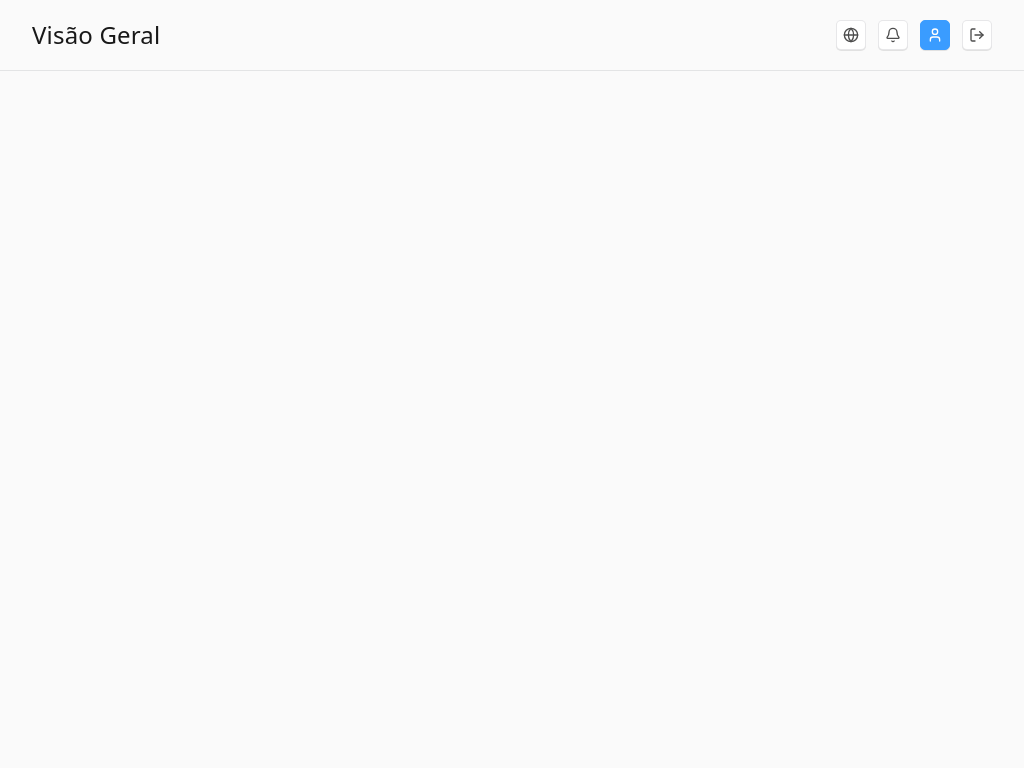
Test: Header component › closes the popover when the close (X) button is clicked
The width and height of the screenshot is (1024, 768).
Click the button named "selecionar idioma".
click(851, 35)  # box left=836, top=20, right=866, bottom=50
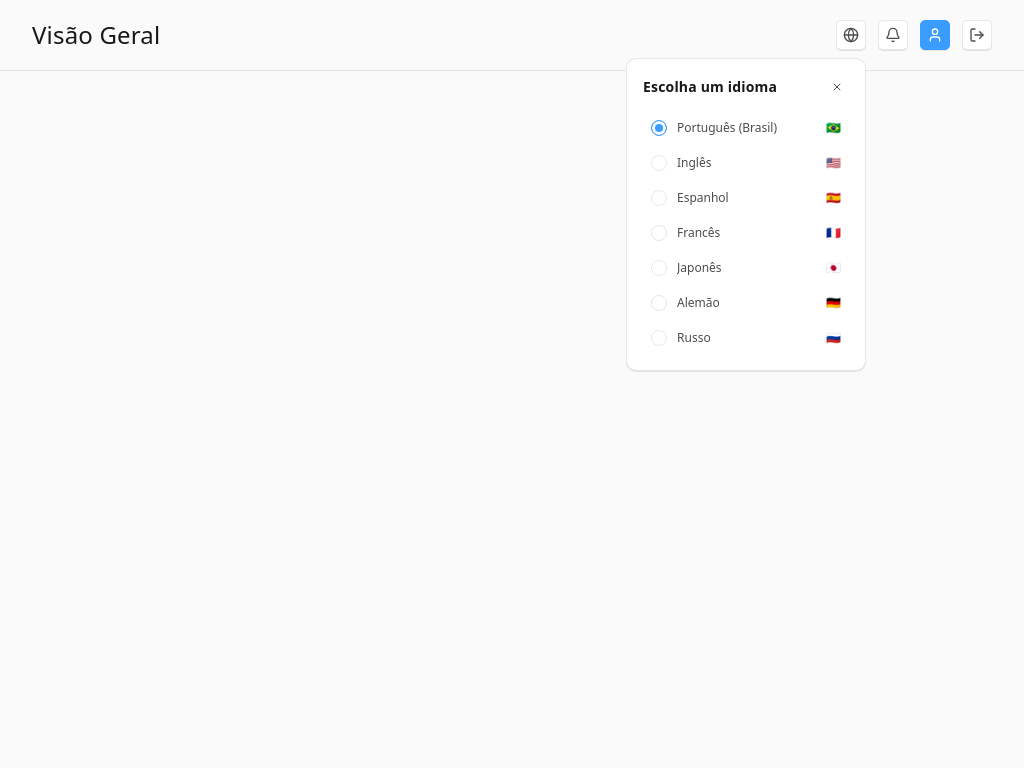
Click the button named "fechar seleção de idioma".
click(837, 87)  # box left=825, top=75, right=849, bottom=99
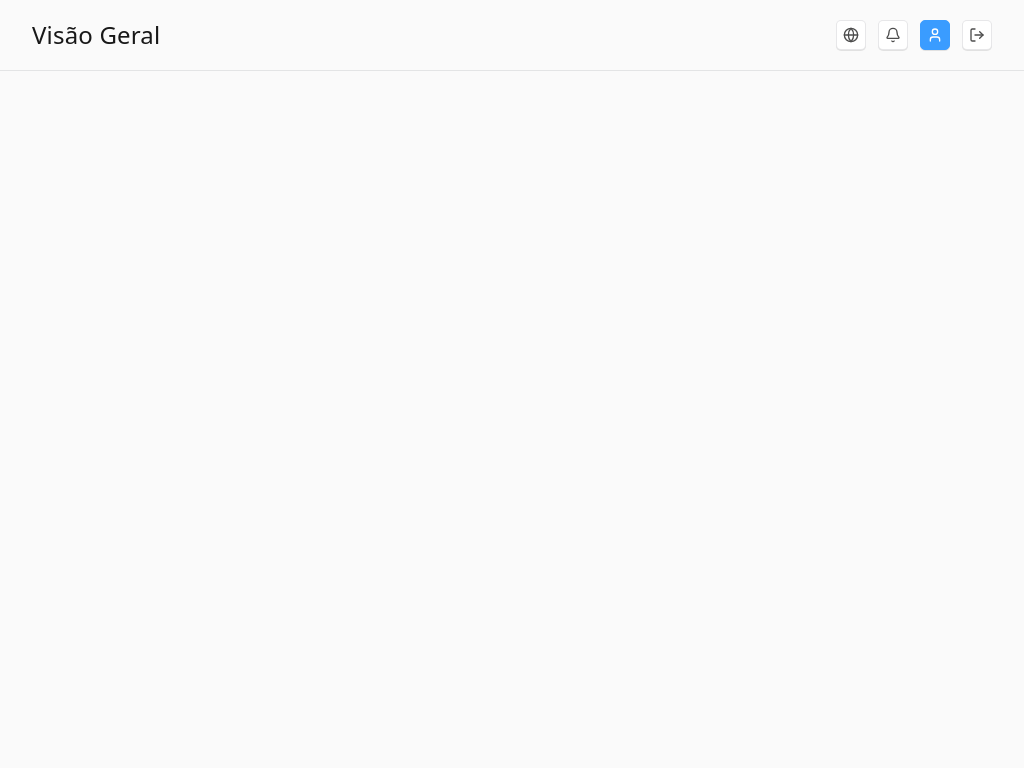
Expected: the text "Escolha um idioma" is gone
